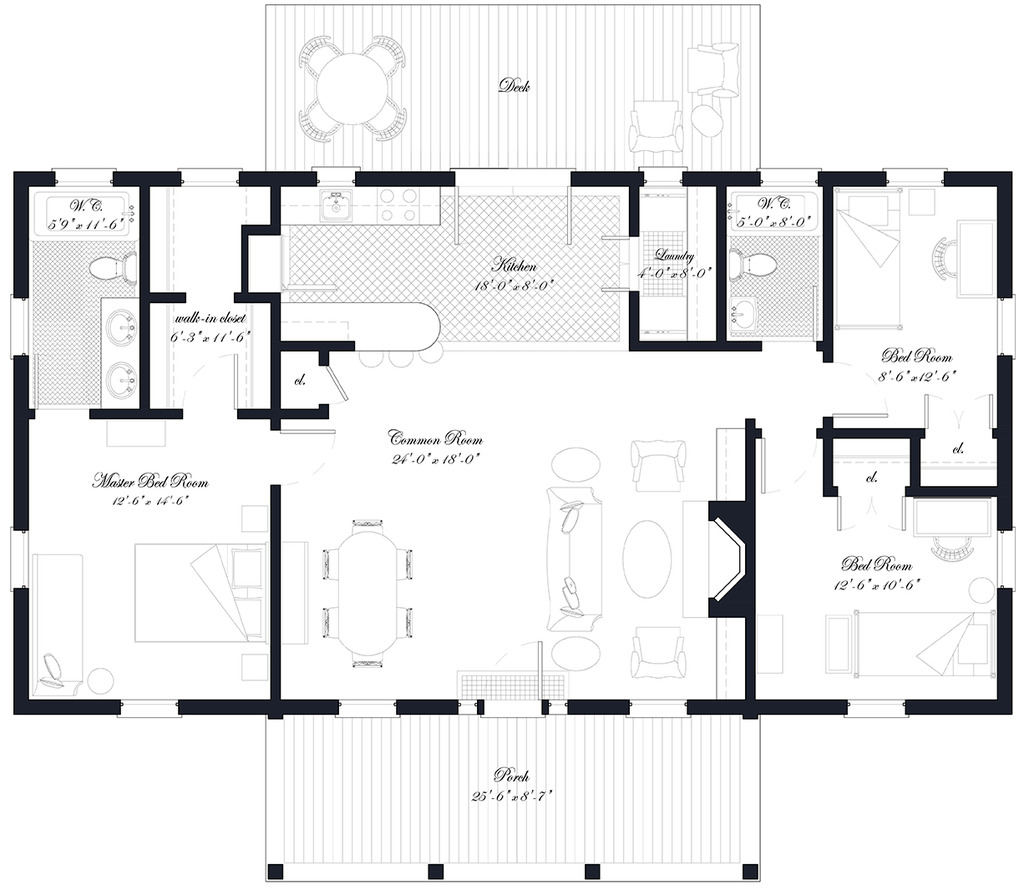bed: (127, 535, 269, 651), (851, 606, 993, 685), (835, 186, 907, 333)
dining_table: (310, 517, 421, 669)
door: (177, 349, 242, 422), (825, 361, 888, 421), (831, 488, 907, 536), (920, 391, 996, 434)
large_sink: (720, 239, 782, 290), (82, 250, 147, 288)
large_sofa: (544, 481, 603, 636)
round_table: (295, 31, 411, 146)
small_sink: (96, 295, 144, 414), (723, 292, 758, 334)
small_sofa: (625, 94, 688, 166), (624, 623, 694, 685), (627, 431, 688, 501), (684, 38, 741, 101)
tub: (31, 187, 140, 240)
windows: (447, 165, 576, 201), (112, 691, 181, 722), (328, 691, 404, 719), (878, 160, 952, 188), (7, 524, 35, 593), (8, 287, 33, 359), (843, 699, 911, 725), (175, 166, 244, 189), (754, 166, 822, 189), (628, 699, 688, 718)
